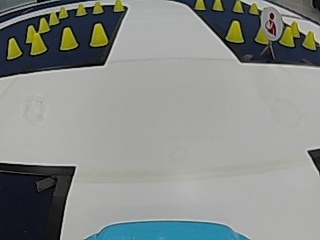cone: (59, 27, 78, 50), (225, 20, 244, 43), (90, 23, 108, 46), (30, 31, 46, 54), (7, 37, 22, 58), (280, 27, 294, 46), (303, 30, 316, 50), (255, 23, 268, 43), (38, 17, 50, 32), (75, 3, 87, 16), (112, 0, 124, 12), (212, 0, 224, 11), (92, 2, 103, 14), (248, 2, 259, 14), (193, 0, 206, 10), (49, 11, 59, 24), (58, 6, 68, 18), (233, 1, 243, 12)
patient: (264, 10, 282, 37)
